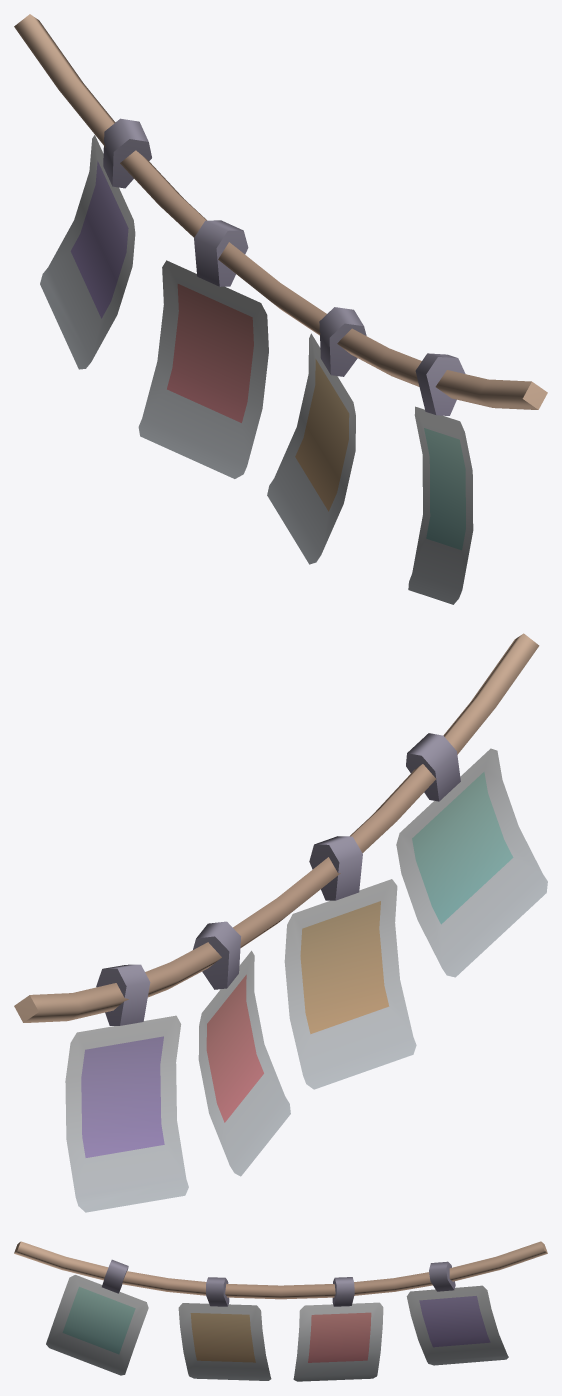
Rendered from photo-string (%wall).glb.
3 views of the same model, one above another, from view 1: azimuth 30°, elevation 25°; view 2: azimuth 150°, elevation 25°; view 3: azimuth 270°, elevation 25° (orthographic). The views are drawn at different scales.
Visible parts, largest first — view 1: photo-string (%wall); view 2: photo-string (%wall); view 3: photo-string (%wall).
Part boxes in pixels (x1=…): photo-string (%wall): x1=14, y1=14, x2=547, y2=604; photo-string (%wall): x1=14, y1=633, x2=547, y2=1212; photo-string (%wall): x1=14, y1=1241, x2=547, y2=1381.
Bounding box in the file's own units: 0.0769 × 0.2752 × 0.8796.
